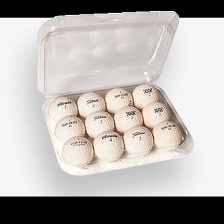plastic_box: (27, 4, 199, 180)
